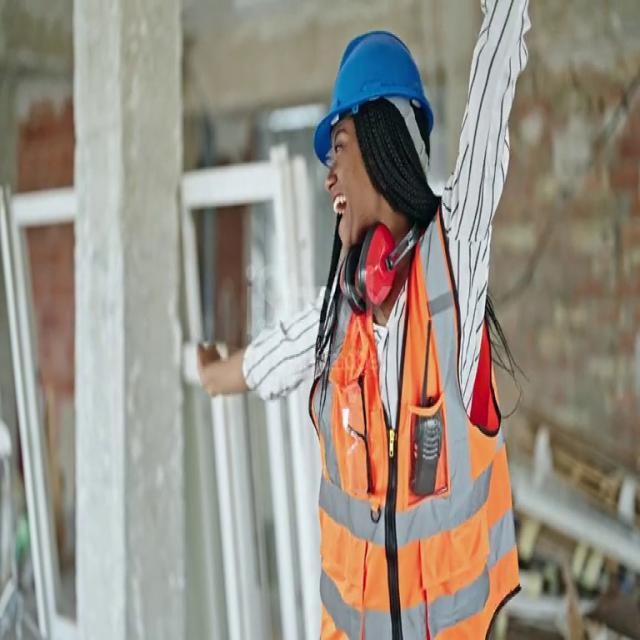capacete: (304, 30, 448, 153)
